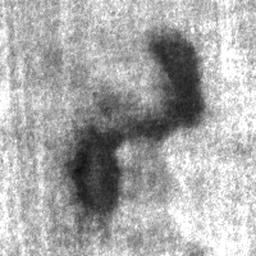Patches: (137, 32, 206, 142), (67, 125, 125, 214)
